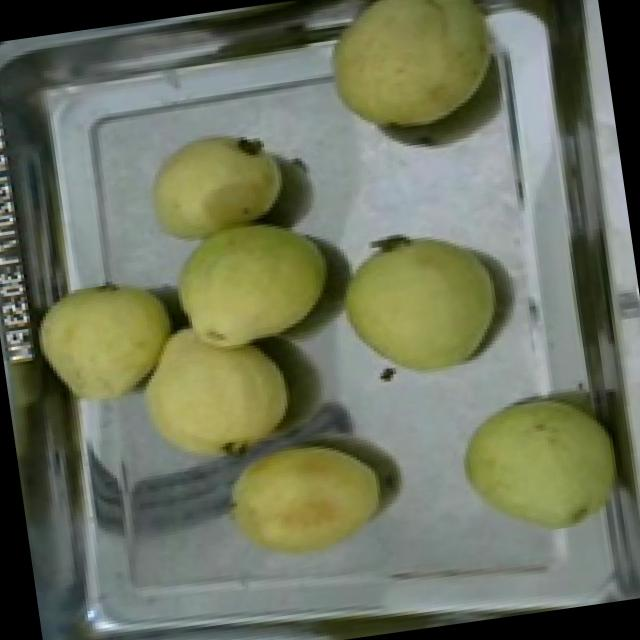Fruit: (114, 308, 310, 485), (444, 378, 638, 555), (205, 414, 402, 582), (328, 218, 514, 394), (152, 206, 346, 367), (313, 0, 512, 153), (21, 266, 193, 424), (136, 119, 298, 256)
